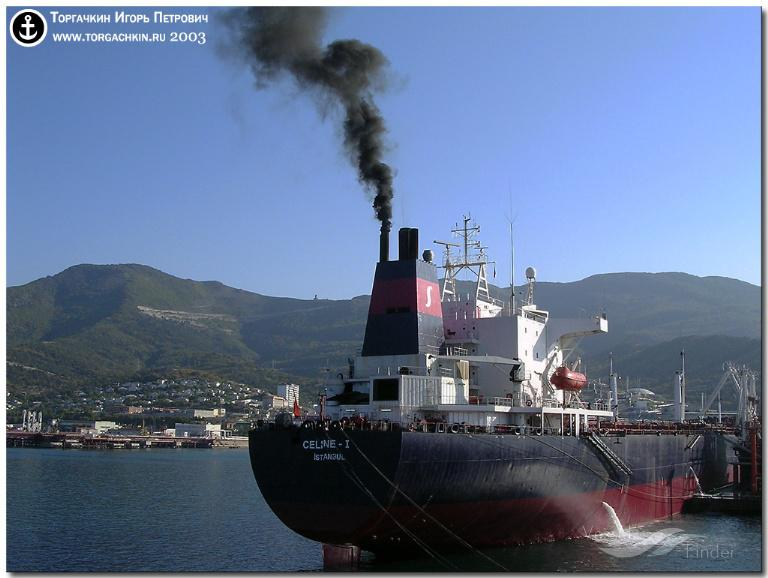OCR: (300, 433, 358, 470)
